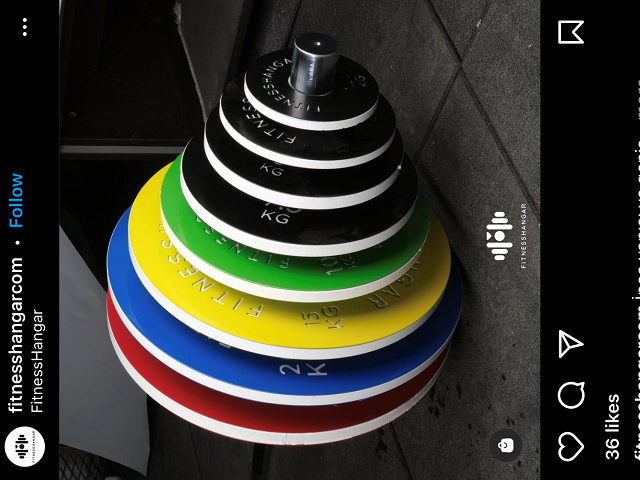weights: (127, 160, 453, 363), (156, 151, 433, 302), (180, 129, 420, 257), (202, 106, 407, 209), (219, 78, 399, 169), (240, 47, 379, 130)
